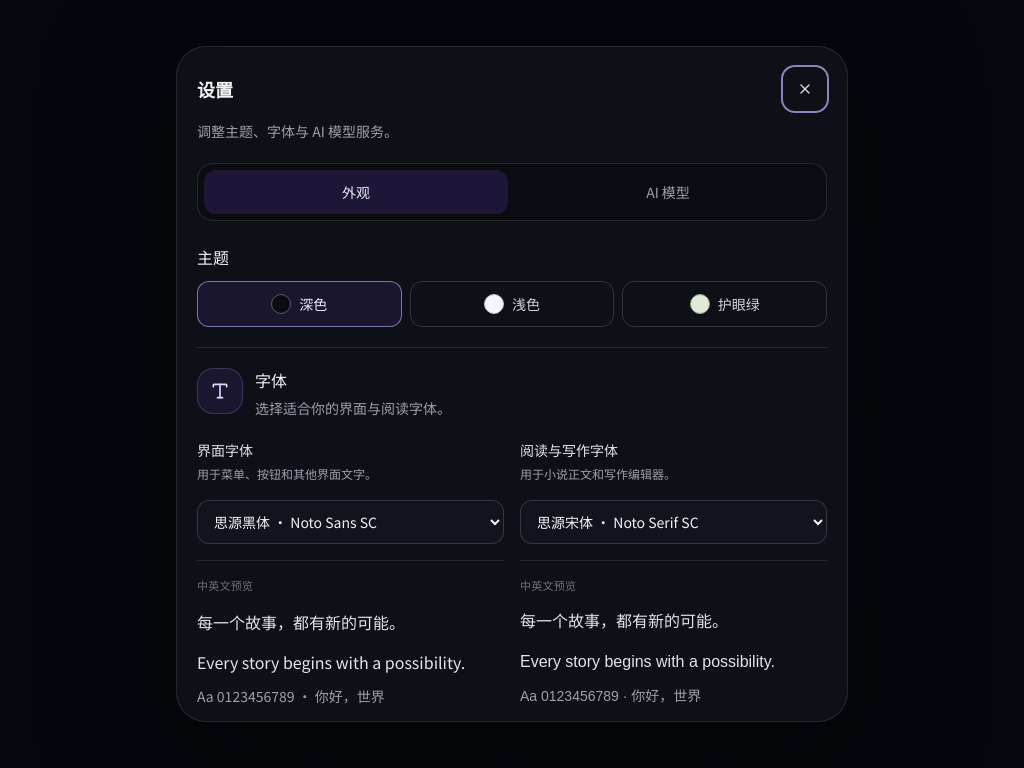
Test: WorkspaceAISettingsModal › starts with a compact overview and opens only the chosen model
Step 1. Click the button "AI 模型" → (668, 192), box [516,170,820,214]
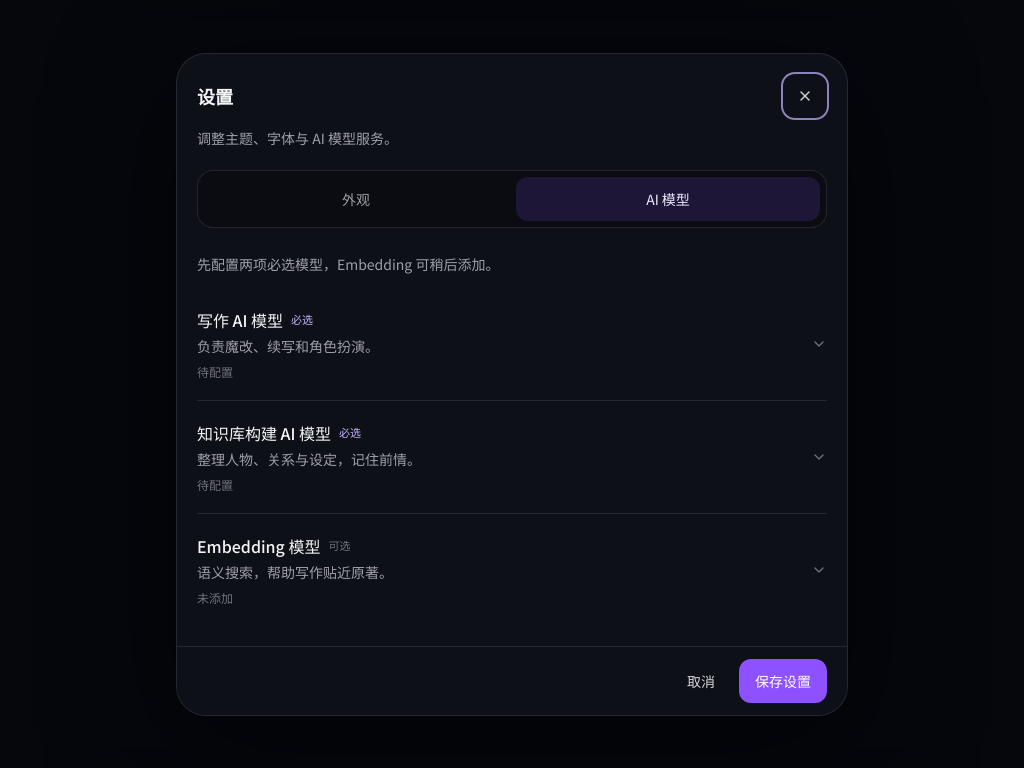
Result: the text "必选" is shown 2 times at [291,311,313,328]; [339,424,361,441]
Result: the text "可选" is shown at [328,537,350,554]
Step 2. Click the button "知识库构建 AI 模型 必选 整理人物、关系与设定，记住前情。 待配置" → (264, 432), box [197,400,827,512]
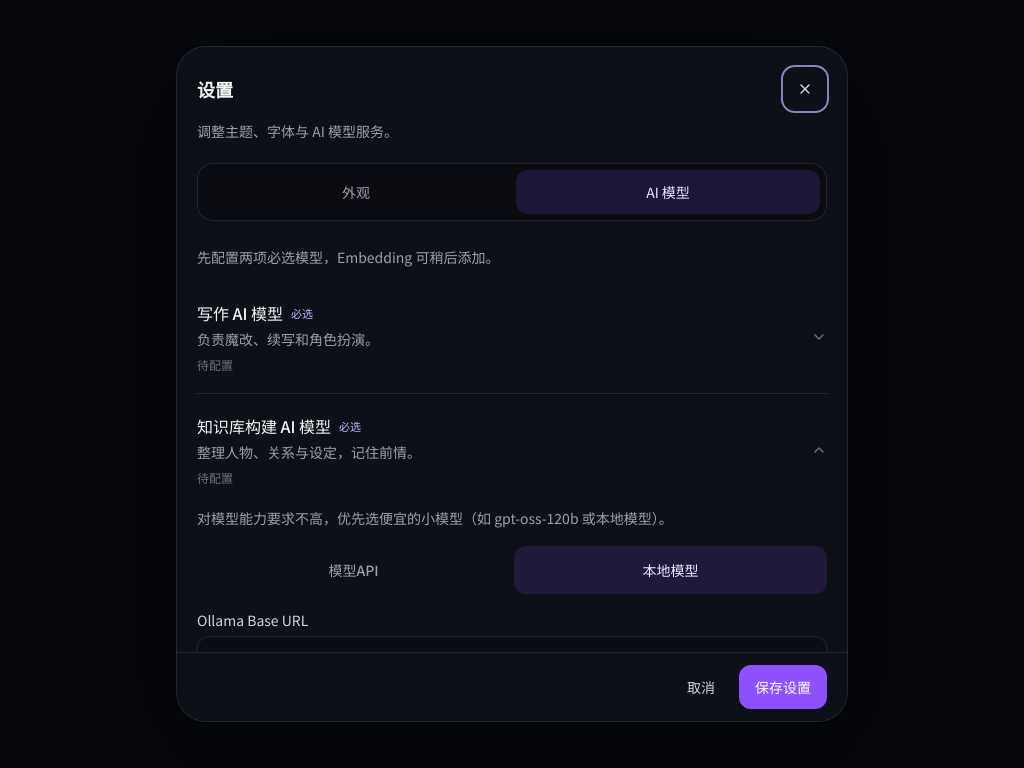
Result: the text "对模型能力要求不高，优先选便宜的小模型（如 gpt-oss-120b 或本地模型）。" is shown at [197,508,673,528]
Step 3. Click the button "写作 AI 模型 必选 负责魔改、续写和角色扮演。 待配置" → (240, 313), box [197,281,827,393]
(page scrolled)
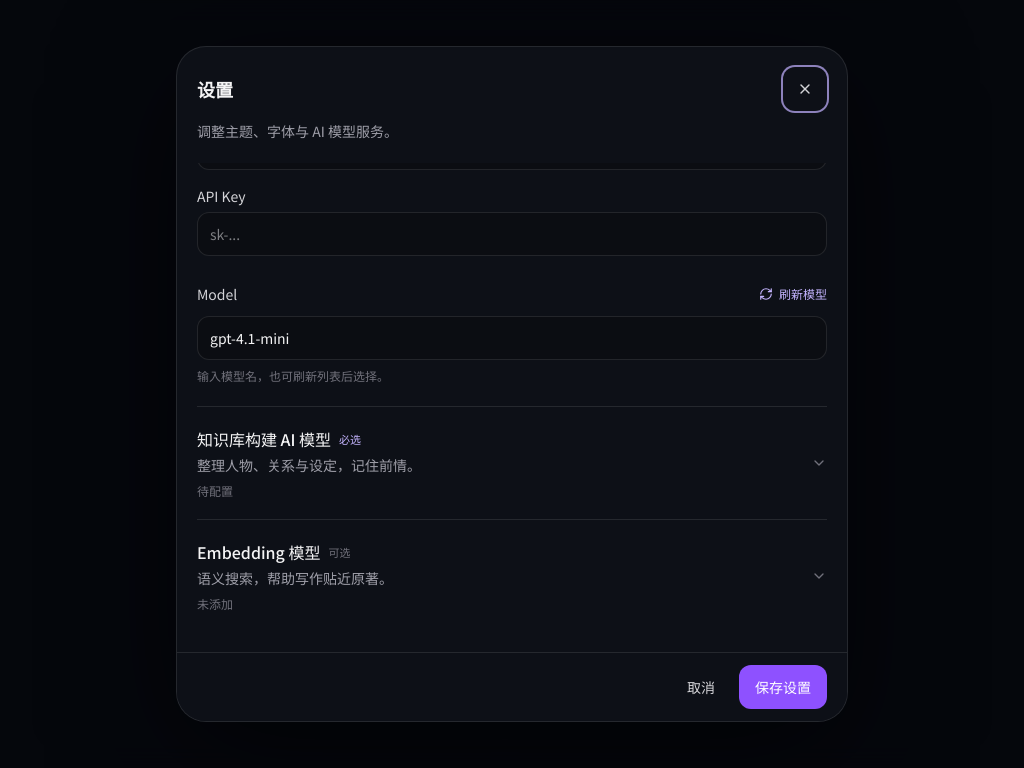
Result: the button "知识库构建 AI 模型 必选 整理人物、关系与设定，记住前情。 待配置" is collapsed at [197,407,827,519]
